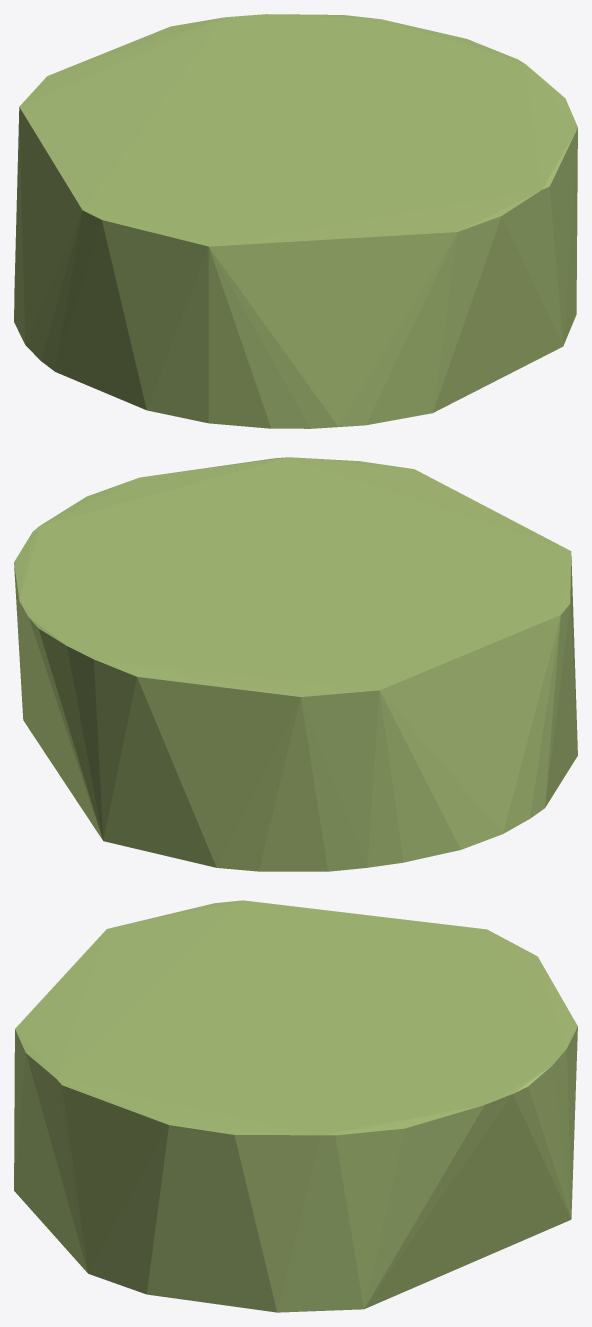
File: misc_tape_refill_a01.glb
3 views of the same model, one above another, from view 1: azimuth 30°, elevation 25°; view 2: azimuth 150°, elevation 25°; view 3: azimuth 270°, elevation 25° (orthographic).
Parts seen in each view (by area): view 1: geometry_0; view 2: geometry_0; view 3: geometry_0.
Part boxes in pixels (bbox=[...]): geometry_0: bbox=[14, 14, 577, 428]; geometry_0: bbox=[14, 457, 577, 871]; geometry_0: bbox=[14, 900, 577, 1312].
Size of the model in its own units: 0.479 by 0.1662 by 0.4794.
